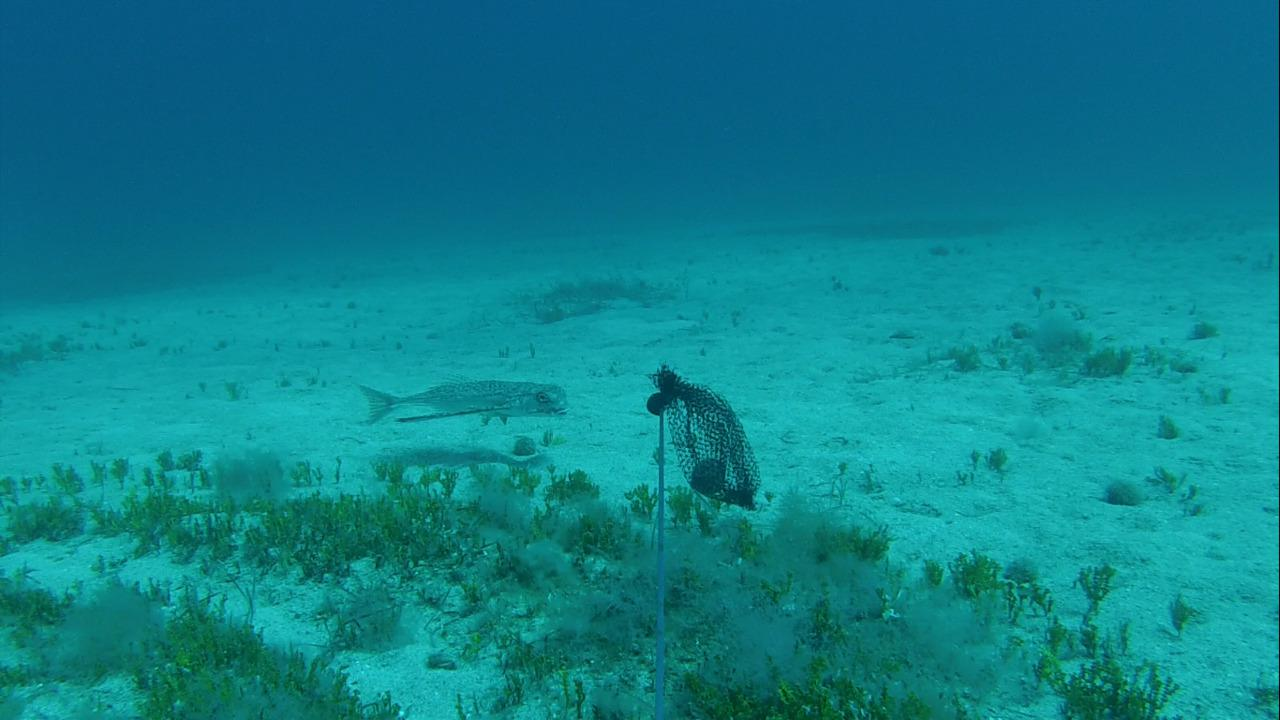dactylopterus: (347, 372, 574, 429)
